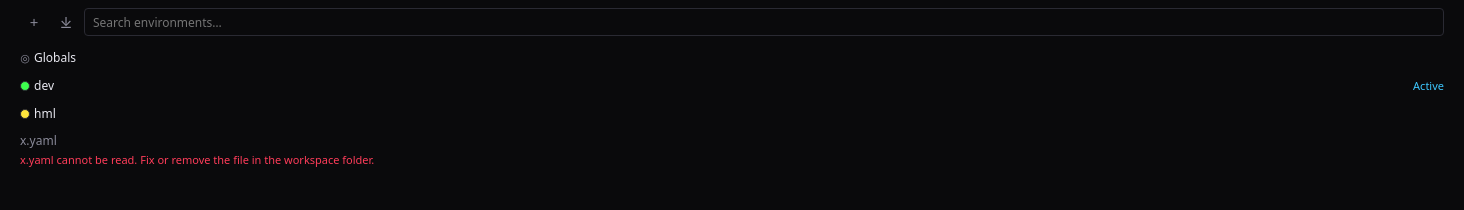
Scenario: EnvironmentsView › renames an environment from its context menu
Right-click the button "hml" at (25, 114), box [12,100,1452,128]
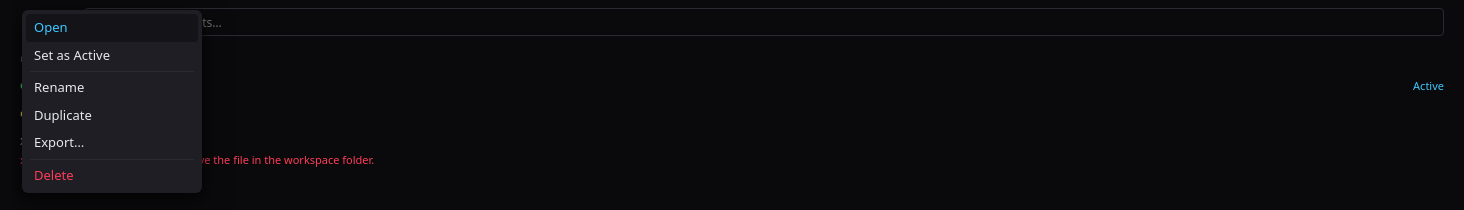
Click the menu item "Rename" at (112, 88), box [26,74,198,102]
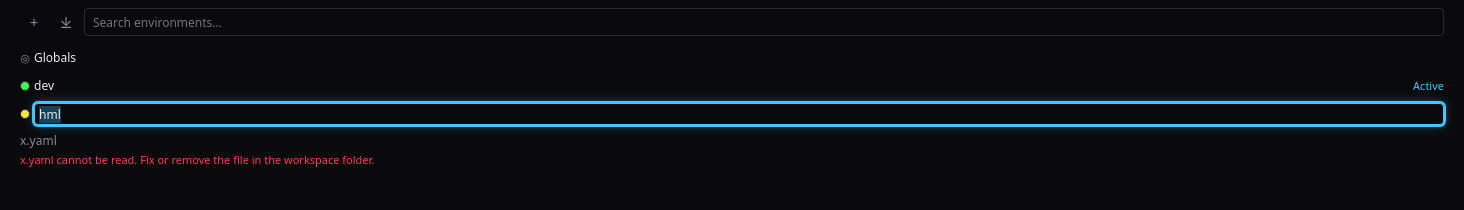
Replace the text in the field named "Name" with "staging" at (739, 114), box [34,103,1444,125]
Then press Enter
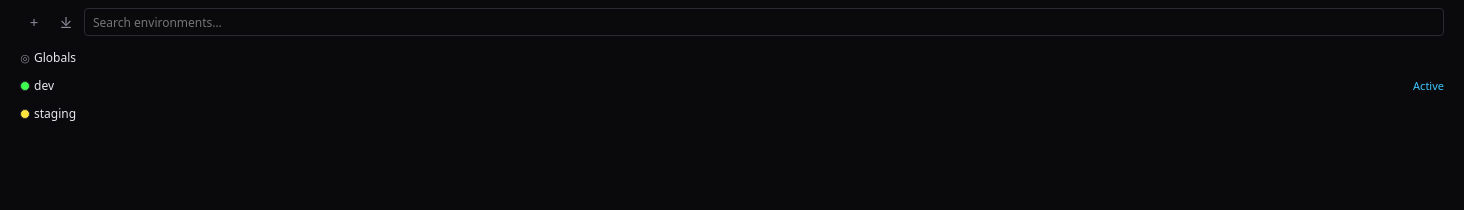
Check: the button "staging" is shown, box [12,100,1452,128]
